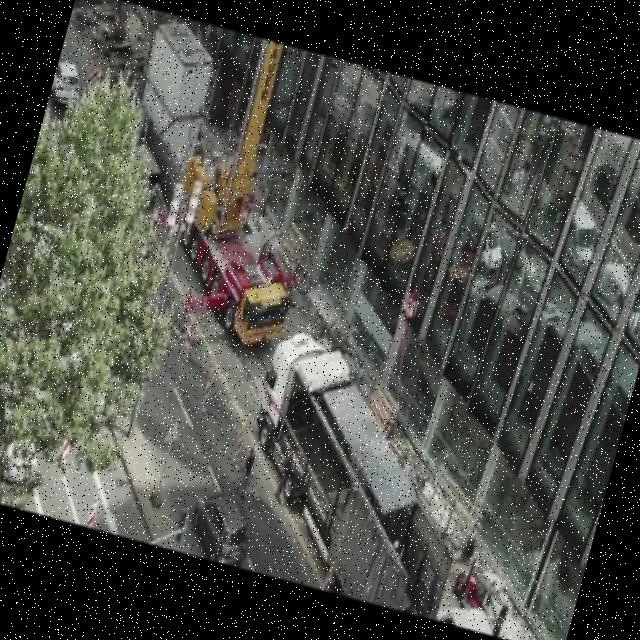Mobile Crane: (150, 27, 352, 356)
